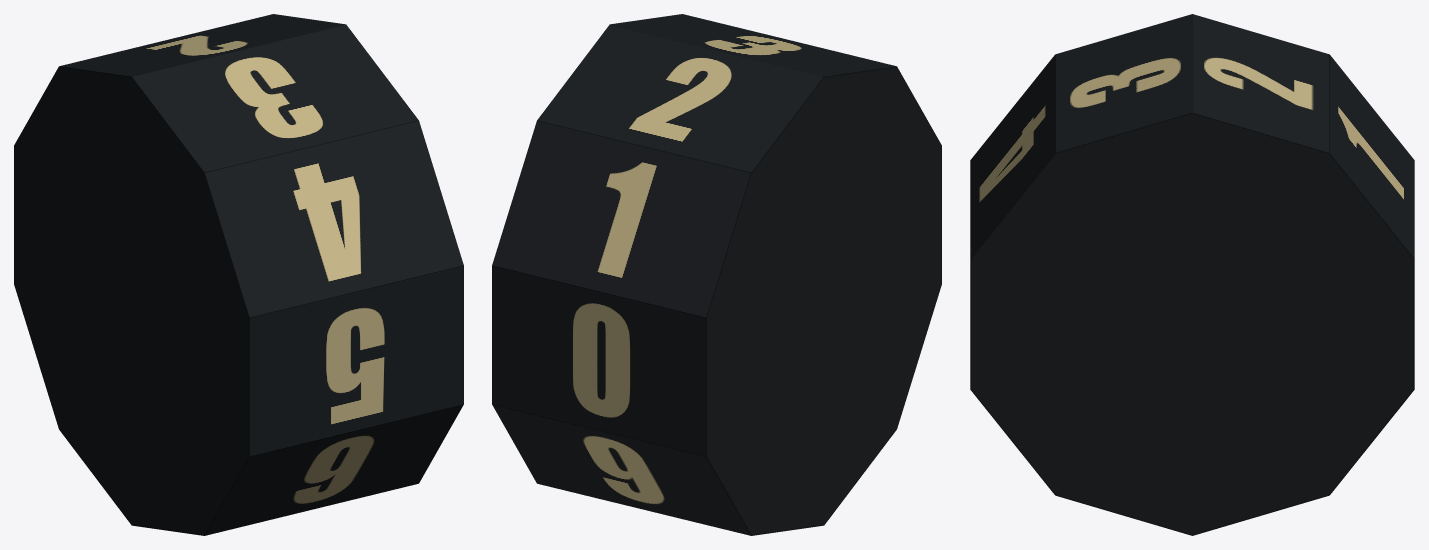
Rendered from Wheel.fbx.
3 views of the same model, side by side, from view 1: azimuth 30°, elevation 25°; view 2: azimuth 150°, elevation 25°; view 3: azimuth 270°, elevation 25° (orthographic). The views are drawn at different scales.
Parts seen in each view (by area): view 1: Cylinder; view 2: Cylinder; view 3: Cylinder.
Part boxes in pixels (left/top/right/bottom): Cylinder: left=14, top=14, right=463, bottom=535; Cylinder: left=492, top=14, right=941, bottom=535; Cylinder: left=970, top=14, right=1414, bottom=535.
Size of the model in its own units: 1 by 2 by 1.9.
